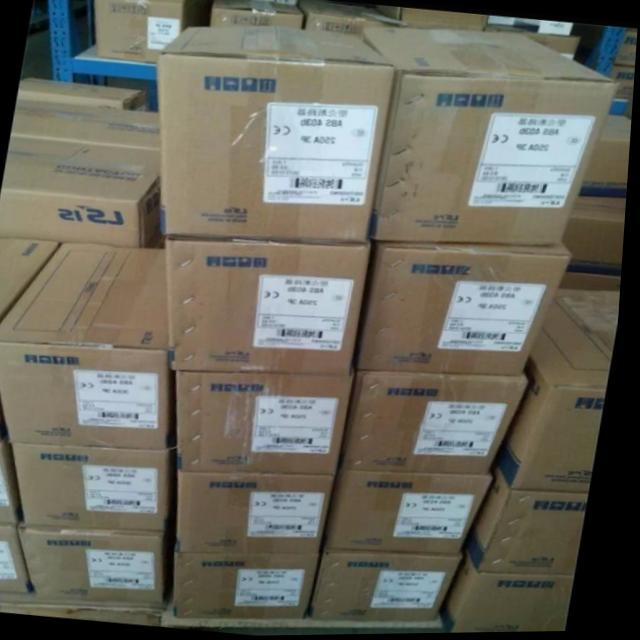box: (361, 29, 617, 245), (157, 26, 393, 244), (0, 239, 177, 449), (168, 237, 373, 374), (362, 243, 574, 375), (501, 289, 624, 493), (347, 371, 533, 476), (0, 133, 168, 249), (180, 370, 360, 475), (15, 441, 175, 531), (471, 461, 595, 576), (331, 472, 500, 556), (182, 470, 345, 554), (23, 524, 173, 608), (448, 548, 583, 634), (316, 552, 470, 623), (181, 552, 328, 618), (11, 97, 160, 151), (561, 197, 629, 292), (0, 235, 64, 330), (94, 0, 185, 64), (578, 114, 633, 199), (17, 77, 149, 111), (373, 4, 488, 32), (297, 0, 383, 34), (0, 523, 40, 595), (0, 435, 30, 524), (210, 0, 302, 29), (518, 34, 582, 60), (607, 66, 636, 122), (512, 19, 572, 36), (616, 28, 638, 69)
